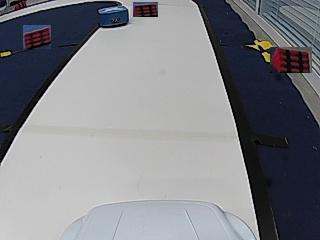prop: (98, 6, 128, 28)
